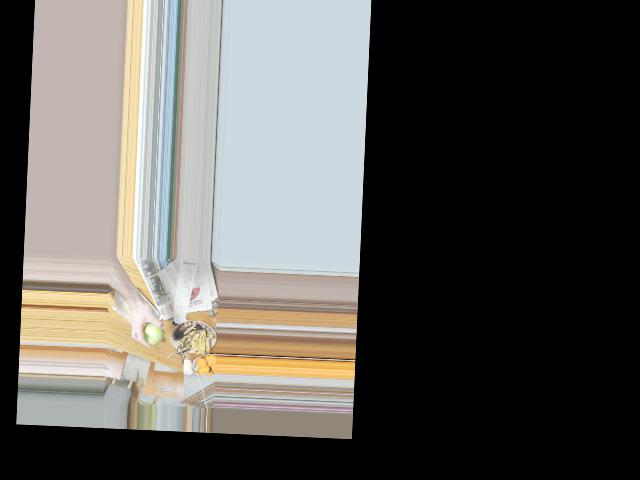apple: (139, 317, 164, 345)
